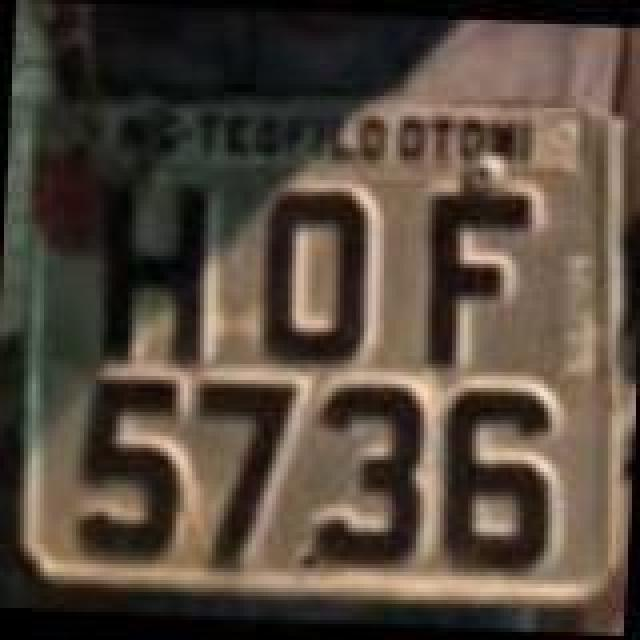3: (306, 372, 430, 568)
5: (68, 370, 196, 566)
6: (428, 380, 564, 584)
7: (182, 376, 298, 564)
F: (424, 186, 536, 370)
H: (90, 178, 214, 374)
O: (250, 180, 382, 376)
